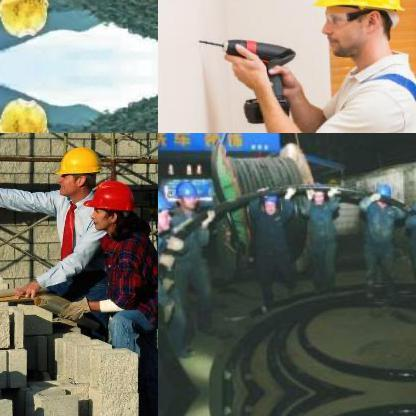Helmet: (303, 0, 412, 68), (84, 180, 138, 240), (46, 144, 98, 196), (0, 0, 56, 45), (0, 89, 54, 132), (176, 176, 200, 209), (158, 187, 170, 232), (374, 180, 390, 204)
